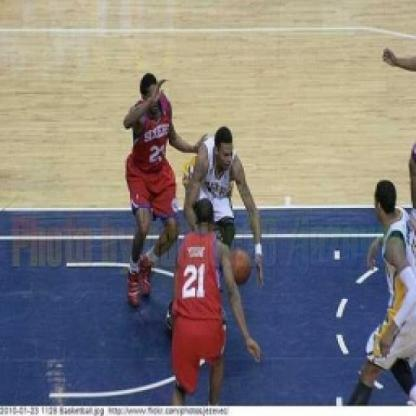basketball: (229, 245, 251, 283)
